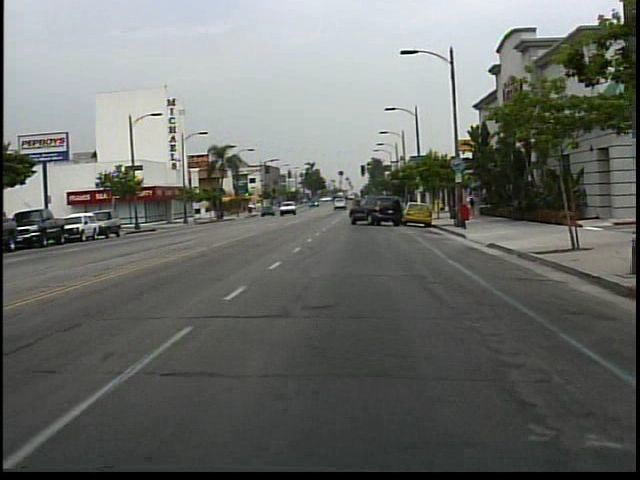person: (466, 187, 478, 209)
